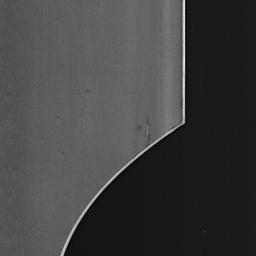Crescent gap: (65, 124, 185, 256)
